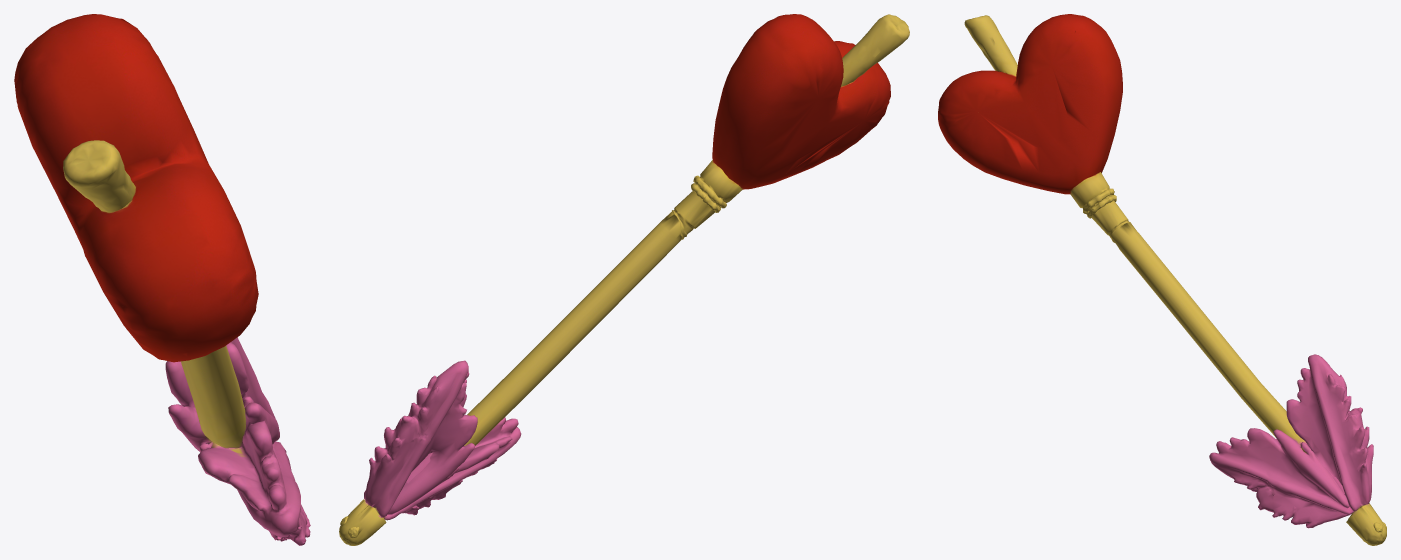
Rendered from r33-cupid.glb.
3 renders of one model, left to right at view 1: azimuth 30°, elevation 25°; view 2: azimuth 150°, elevation 25°; view 3: azimuth 270°, elevation 25°, orthographic. The views are drawn at different scales.
Visible parts, largest first — view 1: tripo_node_3aaf1e97-175c-4f97-addd-799cb3c03cb3; view 2: tripo_node_3aaf1e97-175c-4f97-addd-799cb3c03cb3; view 3: tripo_node_3aaf1e97-175c-4f97-addd-799cb3c03cb3.
Part boxes in pixels (left/top/right/bottom): tripo_node_3aaf1e97-175c-4f97-addd-799cb3c03cb3: left=14, top=14, right=310, bottom=545; tripo_node_3aaf1e97-175c-4f97-addd-799cb3c03cb3: left=339, top=14, right=909, bottom=545; tripo_node_3aaf1e97-175c-4f97-addd-799cb3c03cb3: left=938, top=14, right=1386, bottom=545.
Bounding box in the file's own units: 0.7754 × 0.998 × 0.9863.
1 material, 1 textured.
